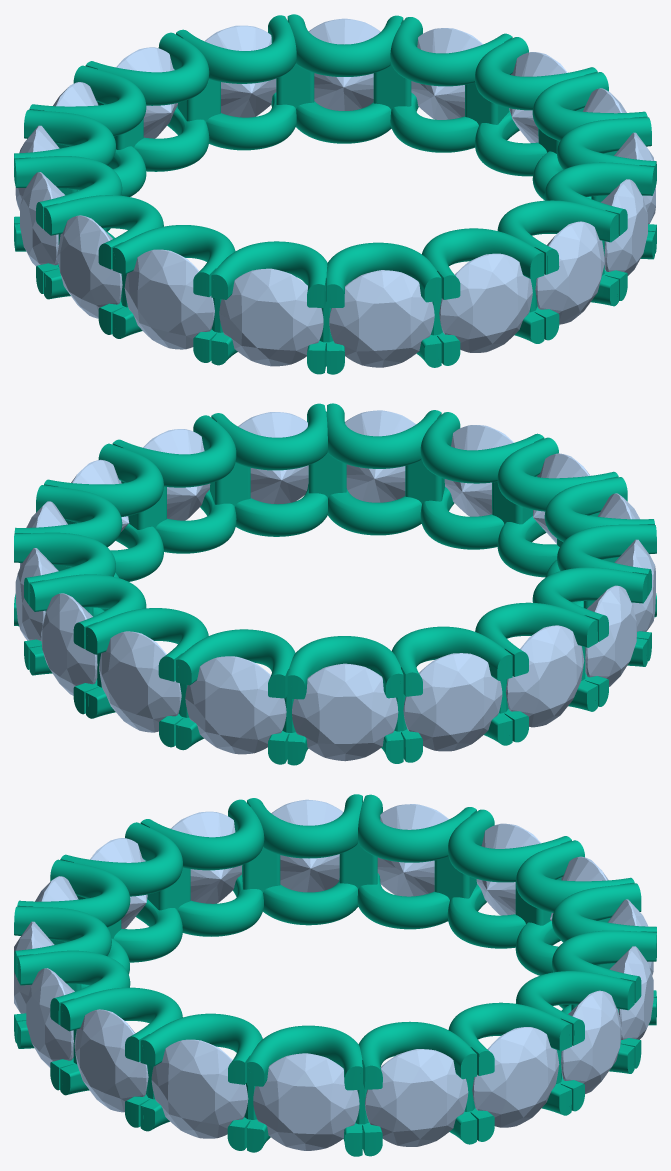
The picture shows the model from 3 angles, top to bottom: view 1: azimuth 30°, elevation 25°; view 2: azimuth 150°, elevation 25°; view 3: azimuth 270°, elevation 25°; orthographic projection.
Visible parts, largest first — view 1: RD 4MM(base).3dm, Diamond_Round (×17); view 2: RD 4MM(base).3dm, Diamond_Round (×17); view 3: RD 4MM(base).3dm, Diamond_Round (×17).
Boxes of the visible parts, x1=… form: RD 4MM(base).3dm: x1=14, y1=14, x2=656, y2=374; Diamond_Round (×17): x1=15, y1=18, x2=655, y2=367; RD 4MM(base).3dm: x1=14, y1=403, x2=656, y2=765; Diamond_Round (×17): x1=15, y1=410, x2=655, y2=761; RD 4MM(base).3dm: x1=14, y1=794, x2=656, y2=1156; Diamond_Round (×17): x1=14, y1=799, x2=653, y2=1150.
Bounding box in the file's own units: 2.81 × 0.4734 × 2.8.
